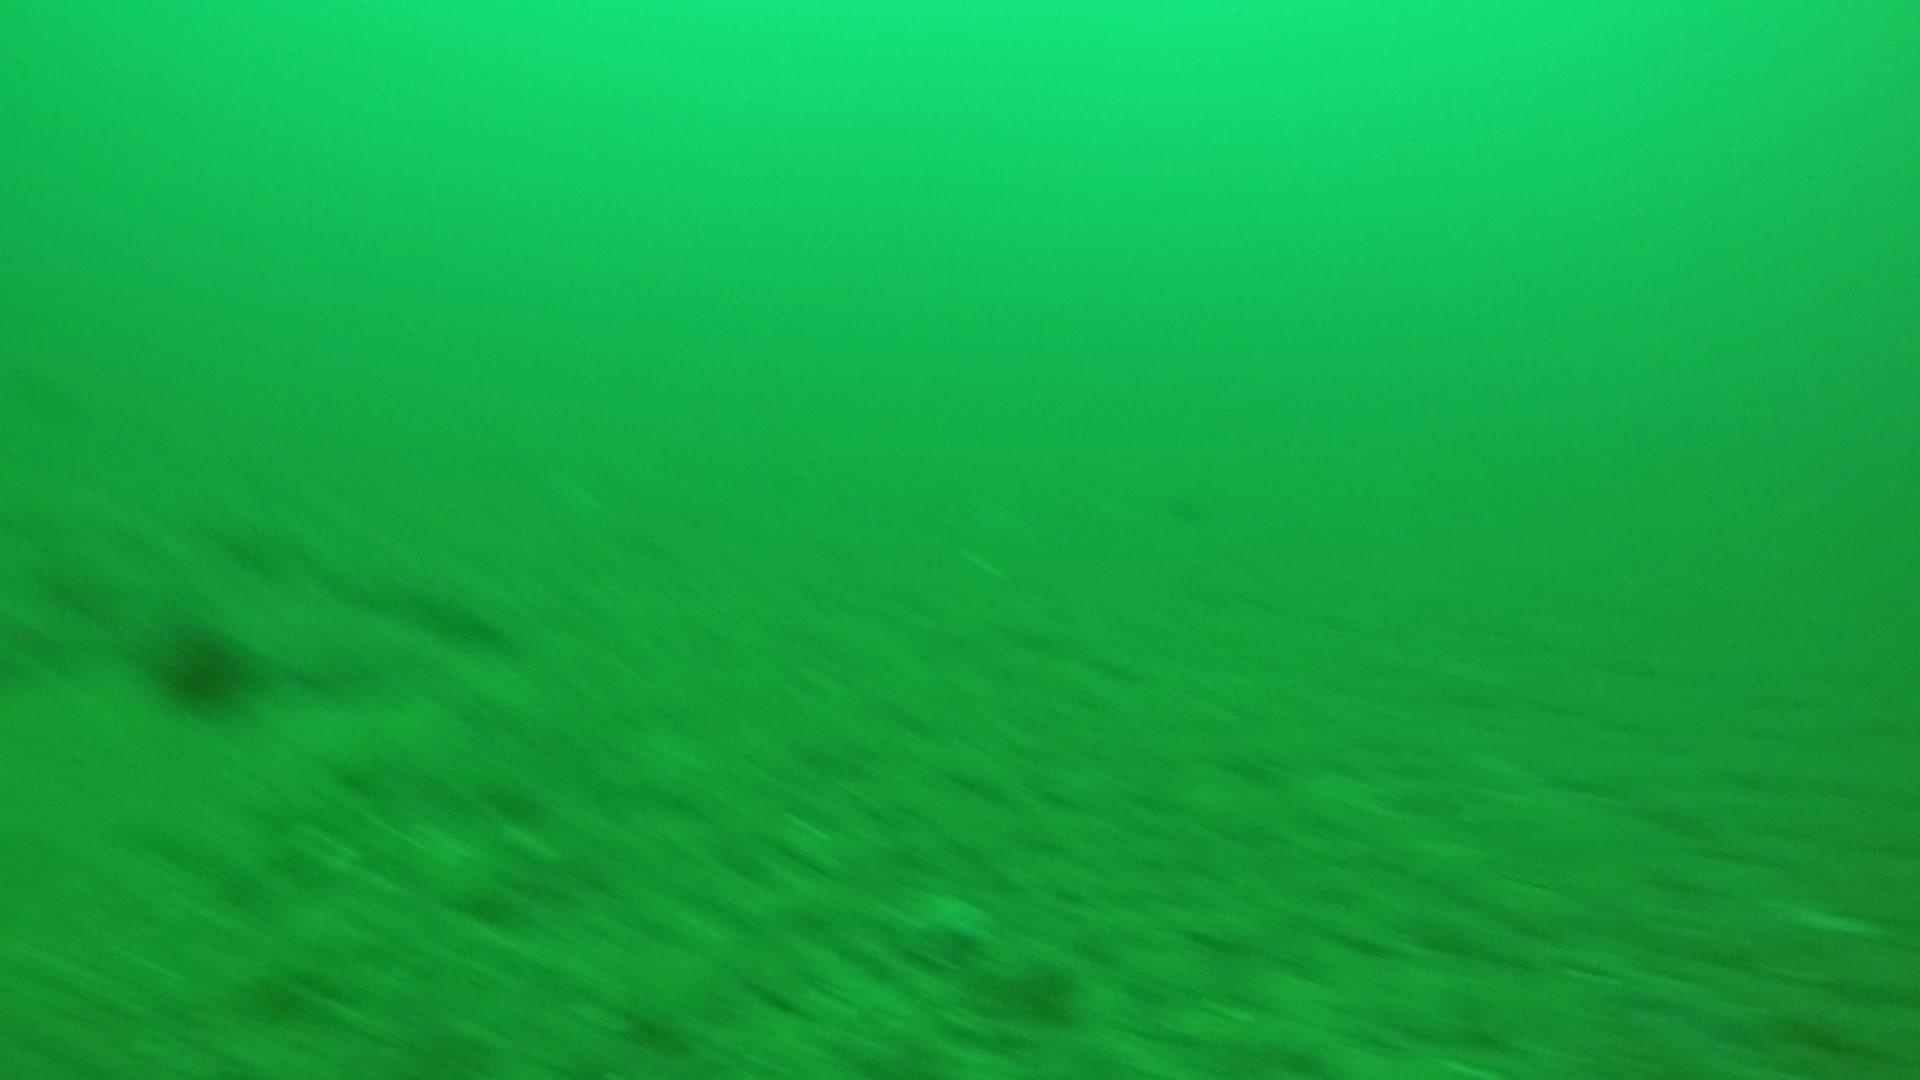echinus: (149, 616, 258, 716)
